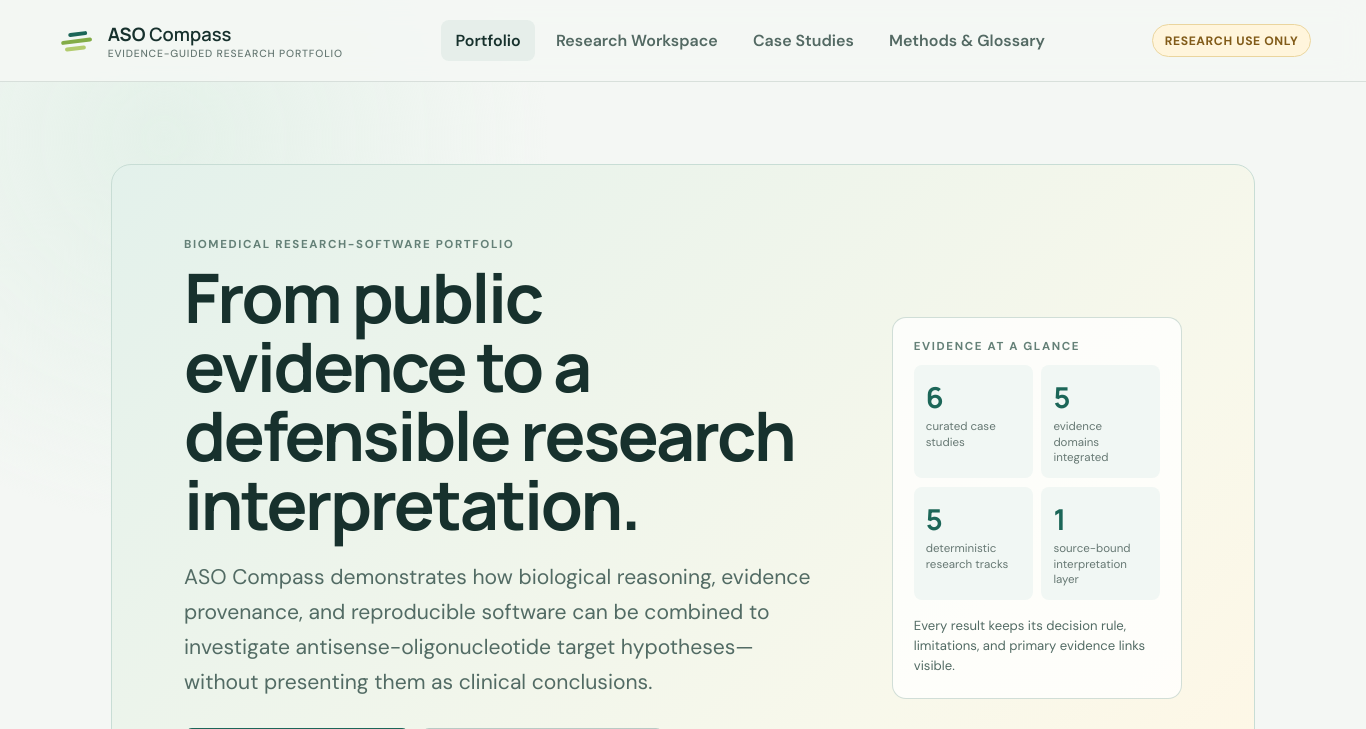
Test: ASO Compass › leads with application capabilities and keeps operations secondary
Expected: the heading "From public evidence to a defensible research interpretation" is shown, x1=184 y1=263 x2=812 y2=539
Click the button "Case Studies".
click(803, 40)  # box x1=738 y1=20 x2=868 y2=61
(page scrolled)
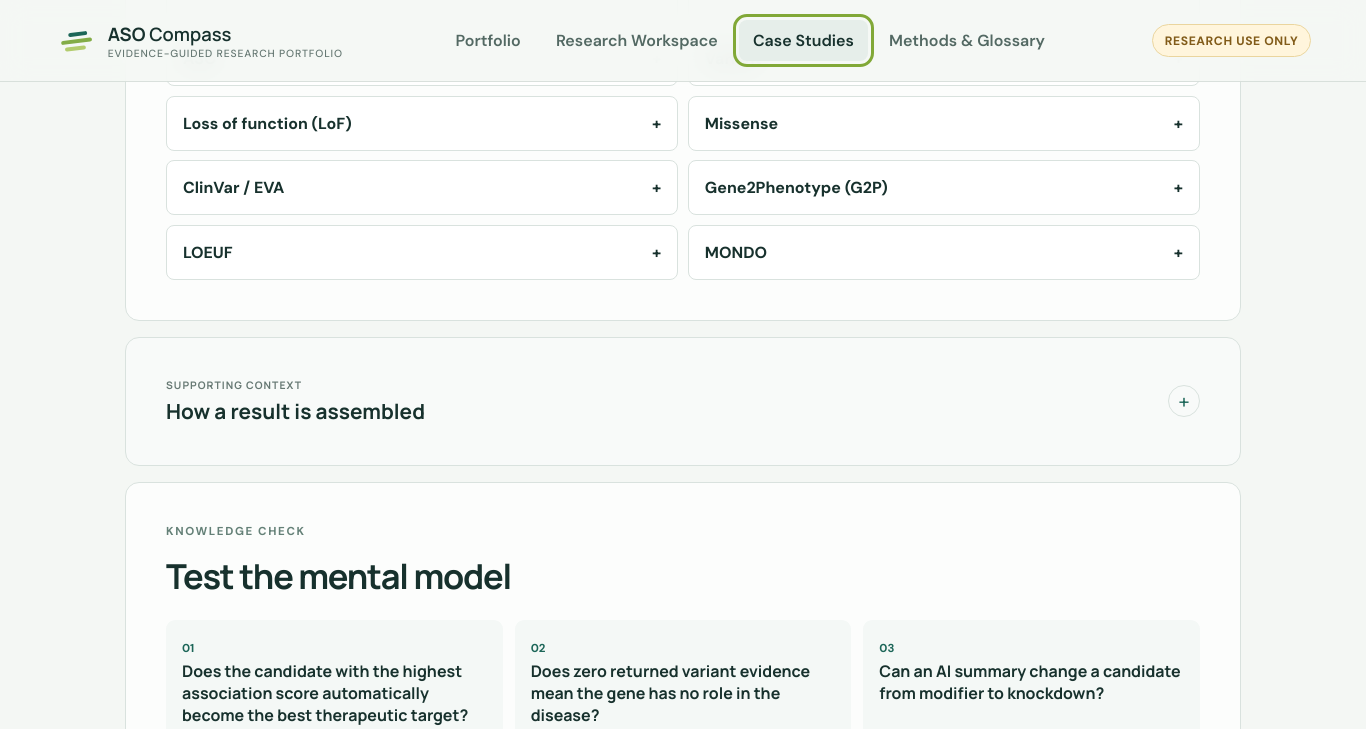
Expected: the text "Disease query" is not shown
Click the text "Supporting context".
click(234, 385)  # box x1=166 y1=378 x2=302 y2=392
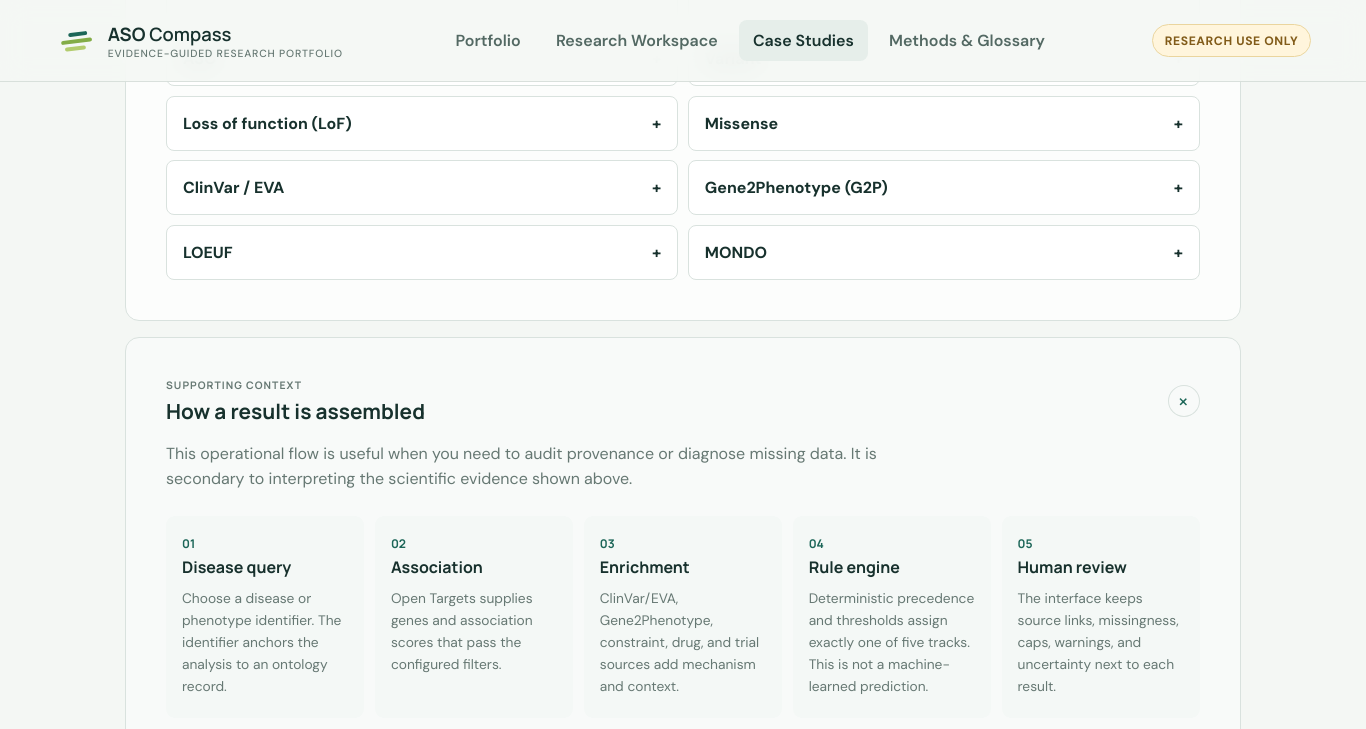
Expected: the heading "Disease query" is shown, x1=182 y1=556 x2=291 y2=578
